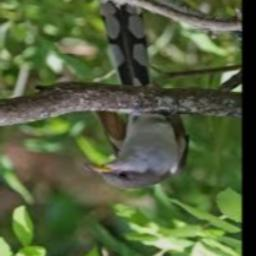Cuckoo: (84, 2, 188, 191)
